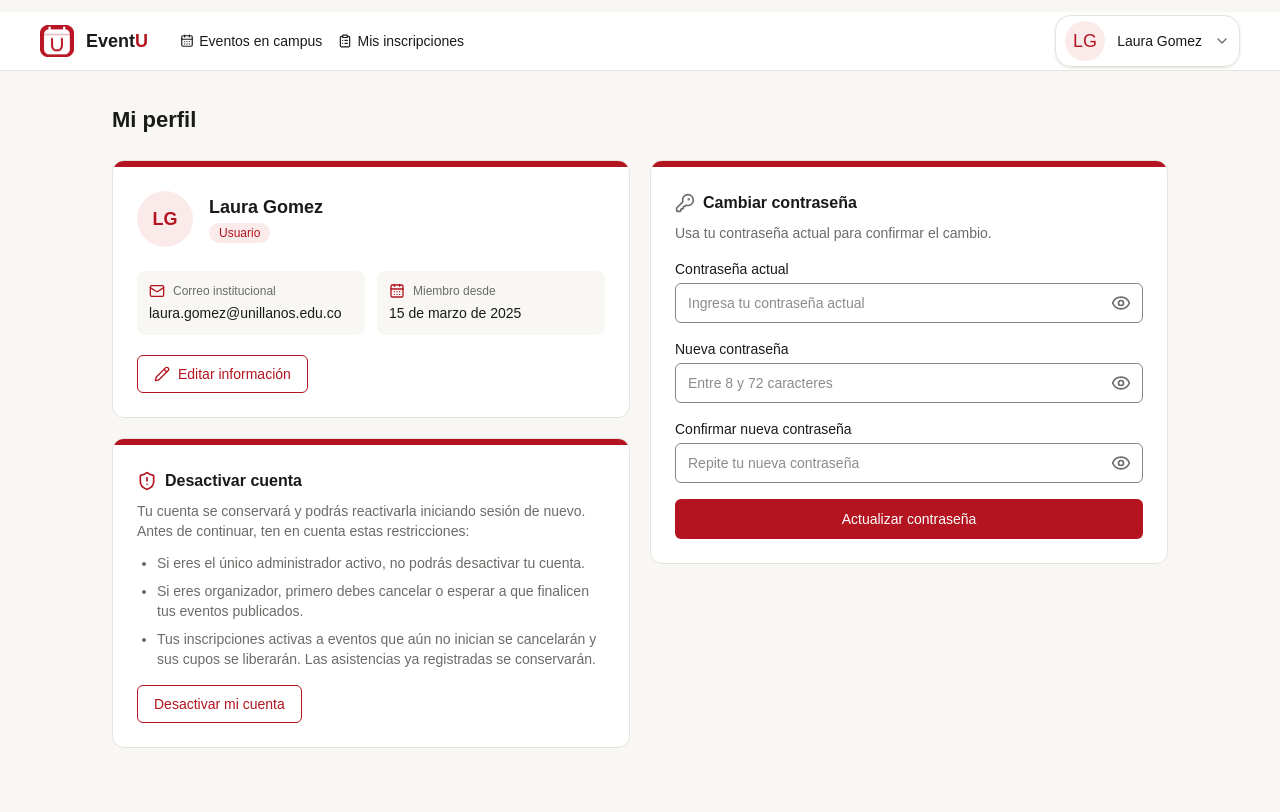
Test case: Perfil › permite cancelar la edición sin modificar el perfil
The image size is (1280, 812).
Click the button "Editar información": (222, 374) left=137, top=355, right=308, bottom=393
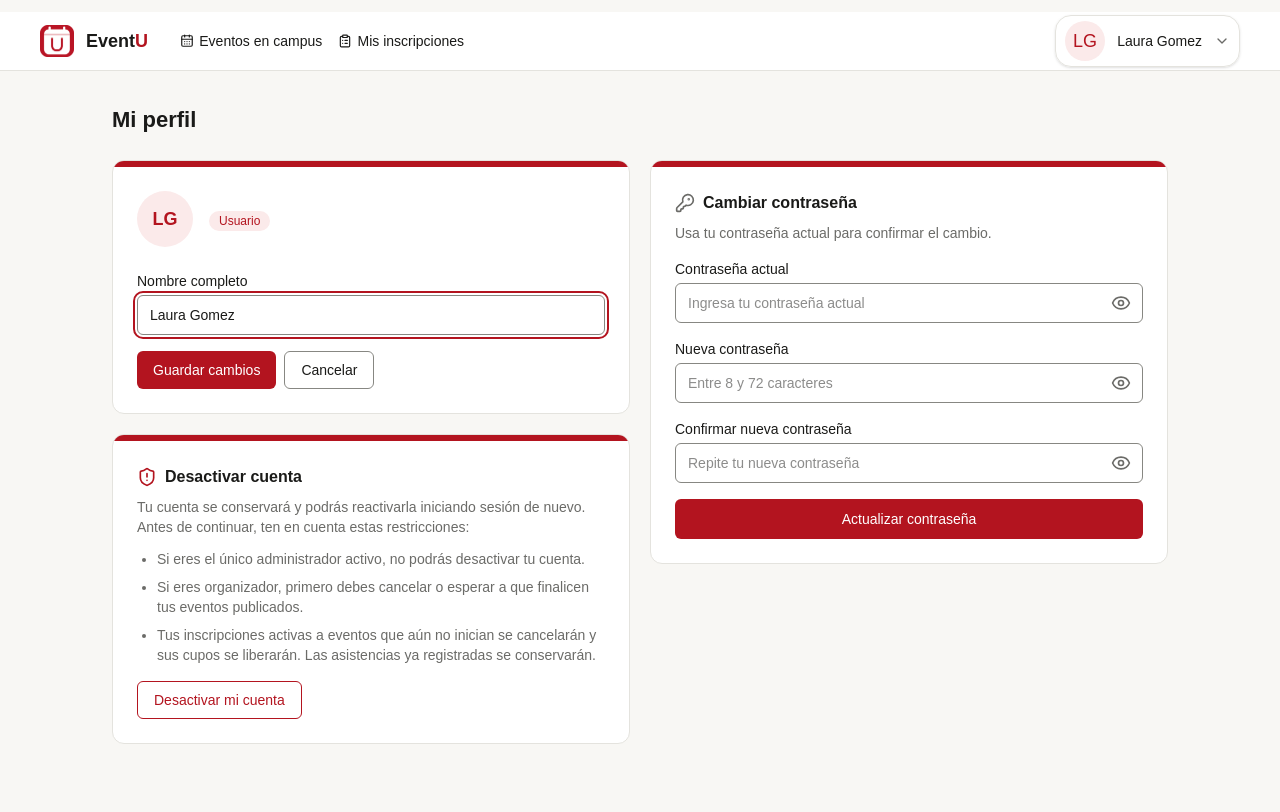
Replace the text in the field labelled "Nombre completo" with "Otro nombre": (371, 315) left=137, top=295, right=605, bottom=335
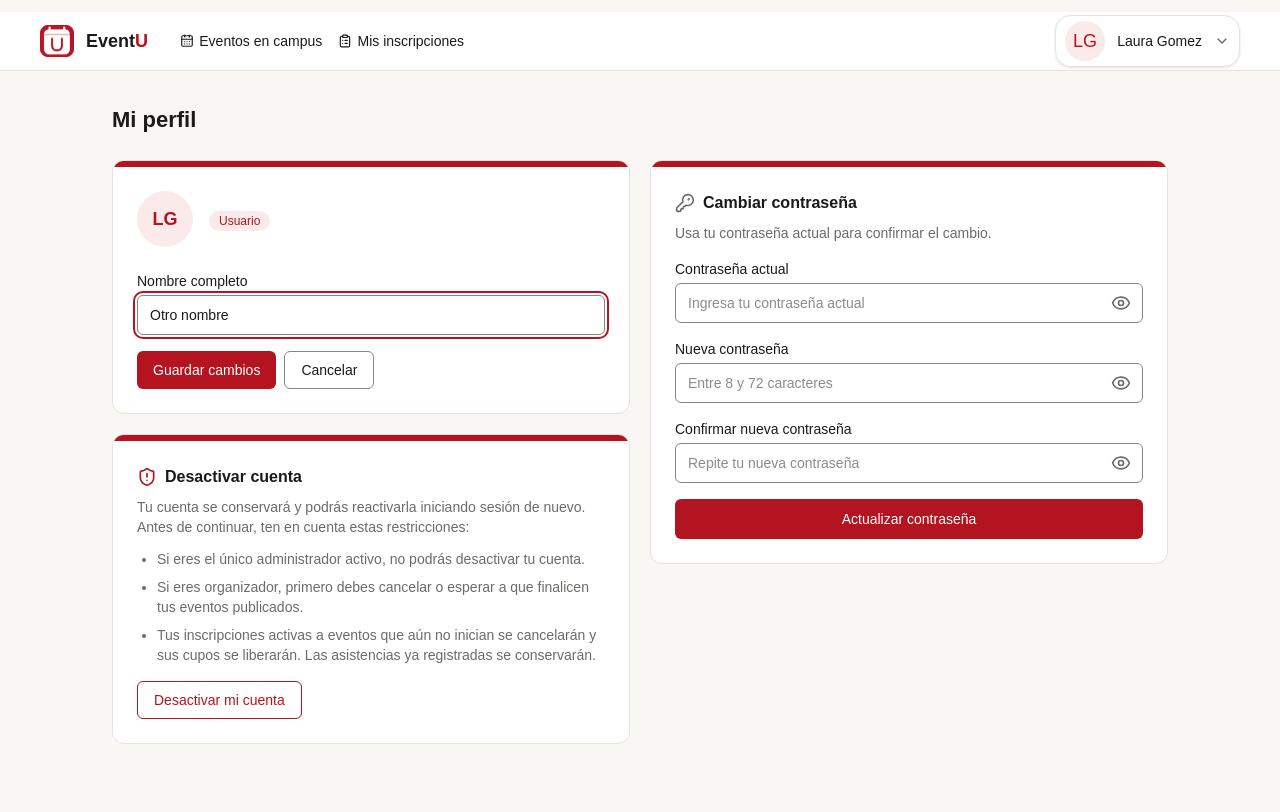
Click the button "Cancelar": (329, 370) left=284, top=351, right=374, bottom=389
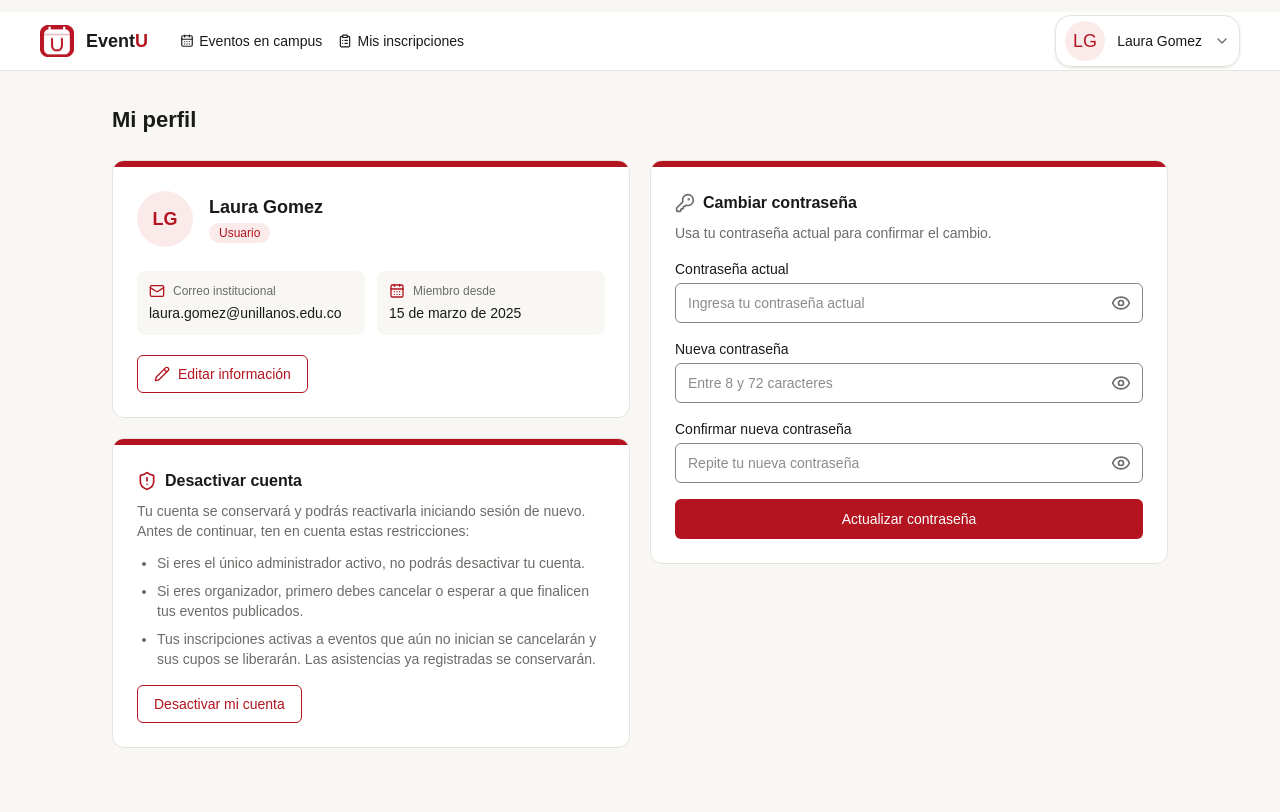
expect the heading "Laura Gomez" is shown: met, box left=209, top=196, right=323, bottom=219
